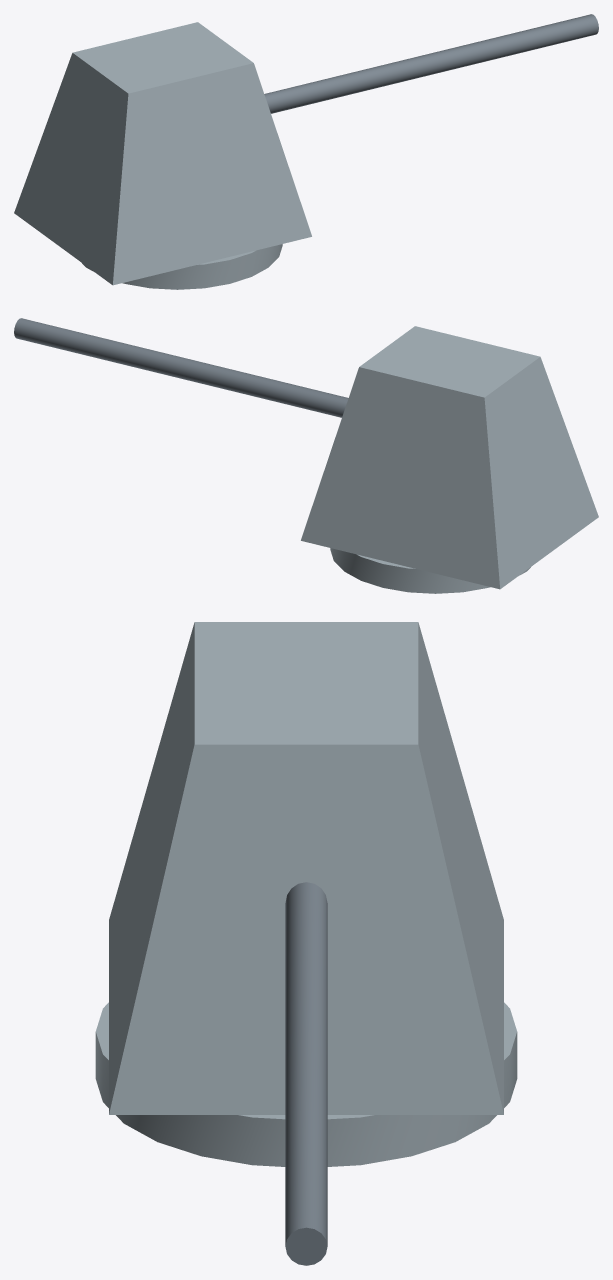
The model's file is pla_hpj45_130mm.glb.
The picture shows the model from 3 angles, top to bottom: view 1: azimuth 30°, elevation 25°; view 2: azimuth 150°, elevation 25°; view 3: azimuth 270°, elevation 25°; orthographic projection. The views are drawn at different scales.
Parts seen in each view (by area): view 1: naval_paint, titanium; view 2: naval_paint, titanium; view 3: naval_paint, titanium.
Boxes of the visible parts, x1,y1,x2,y2 form: naval_paint: [14, 22, 311, 289]; titanium: [264, 14, 598, 113]; naval_paint: [301, 326, 598, 593]; titanium: [14, 318, 348, 417]; naval_paint: [95, 622, 517, 1166]; titanium: [285, 882, 327, 1265].
Size of the model in its own units: 10 by 3.44 by 3.44.
